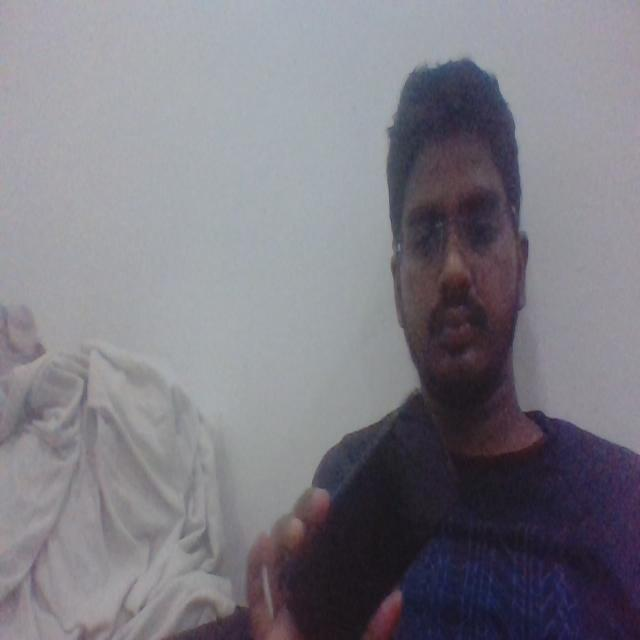Phone: (274, 385, 466, 640)
